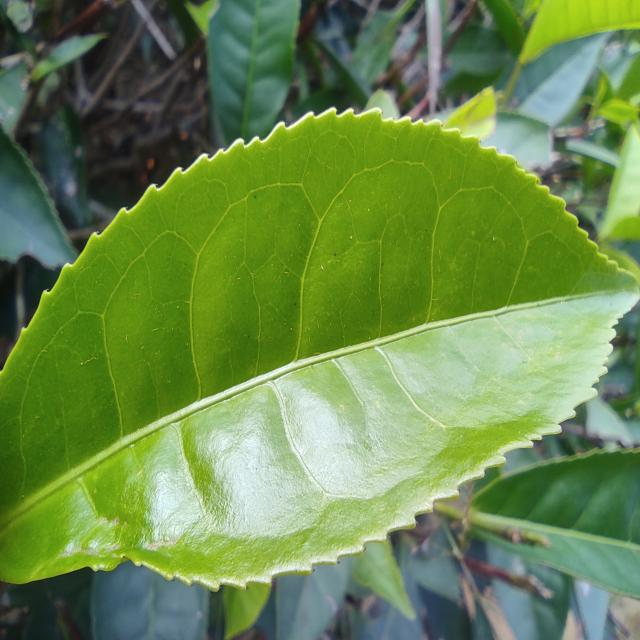Category C 4-7 days: (2, 102, 640, 598)
